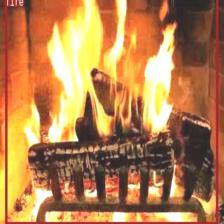fire: (5, 0, 218, 224)
